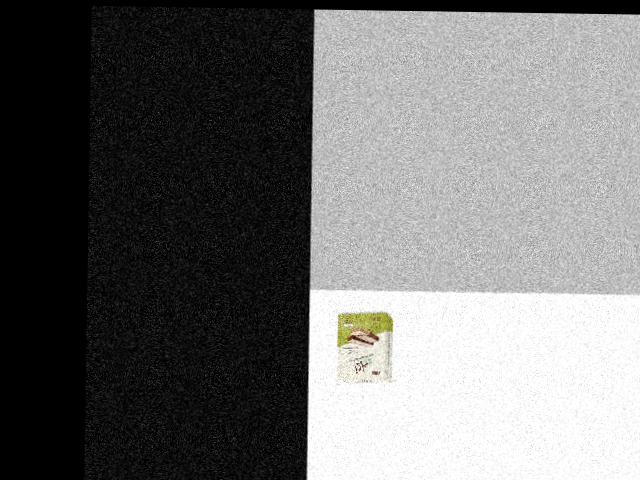chocolate: (335, 309, 397, 384)
